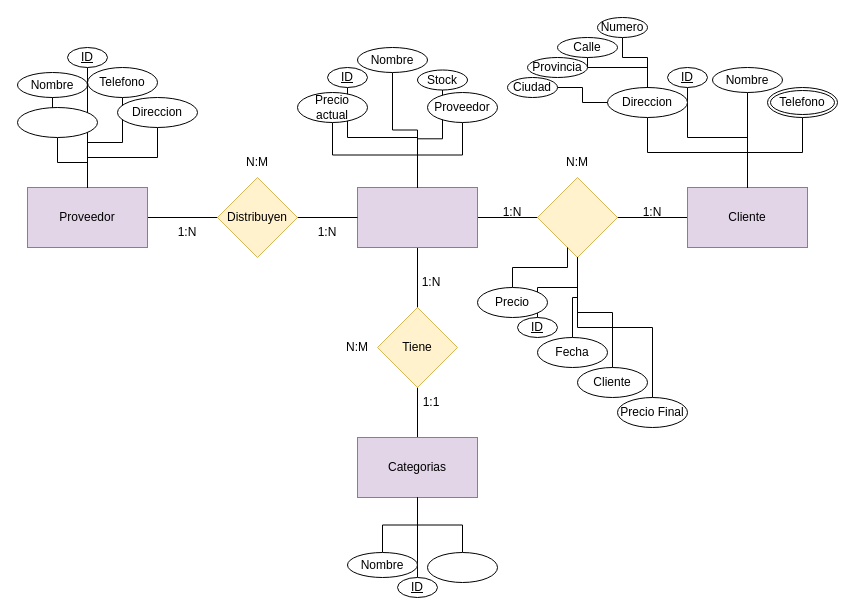
Some shapes in this 855 by 615 pixel diagram are drawn without their labels. Here are the shapes that lost their labels. From the top down, the centre of each, then its label:
At point 57,122: "PaginaWeb".
At point 417,217: "Producto".
At point 577,217: "es Vendido".
At point 462,567: "Descripción".
